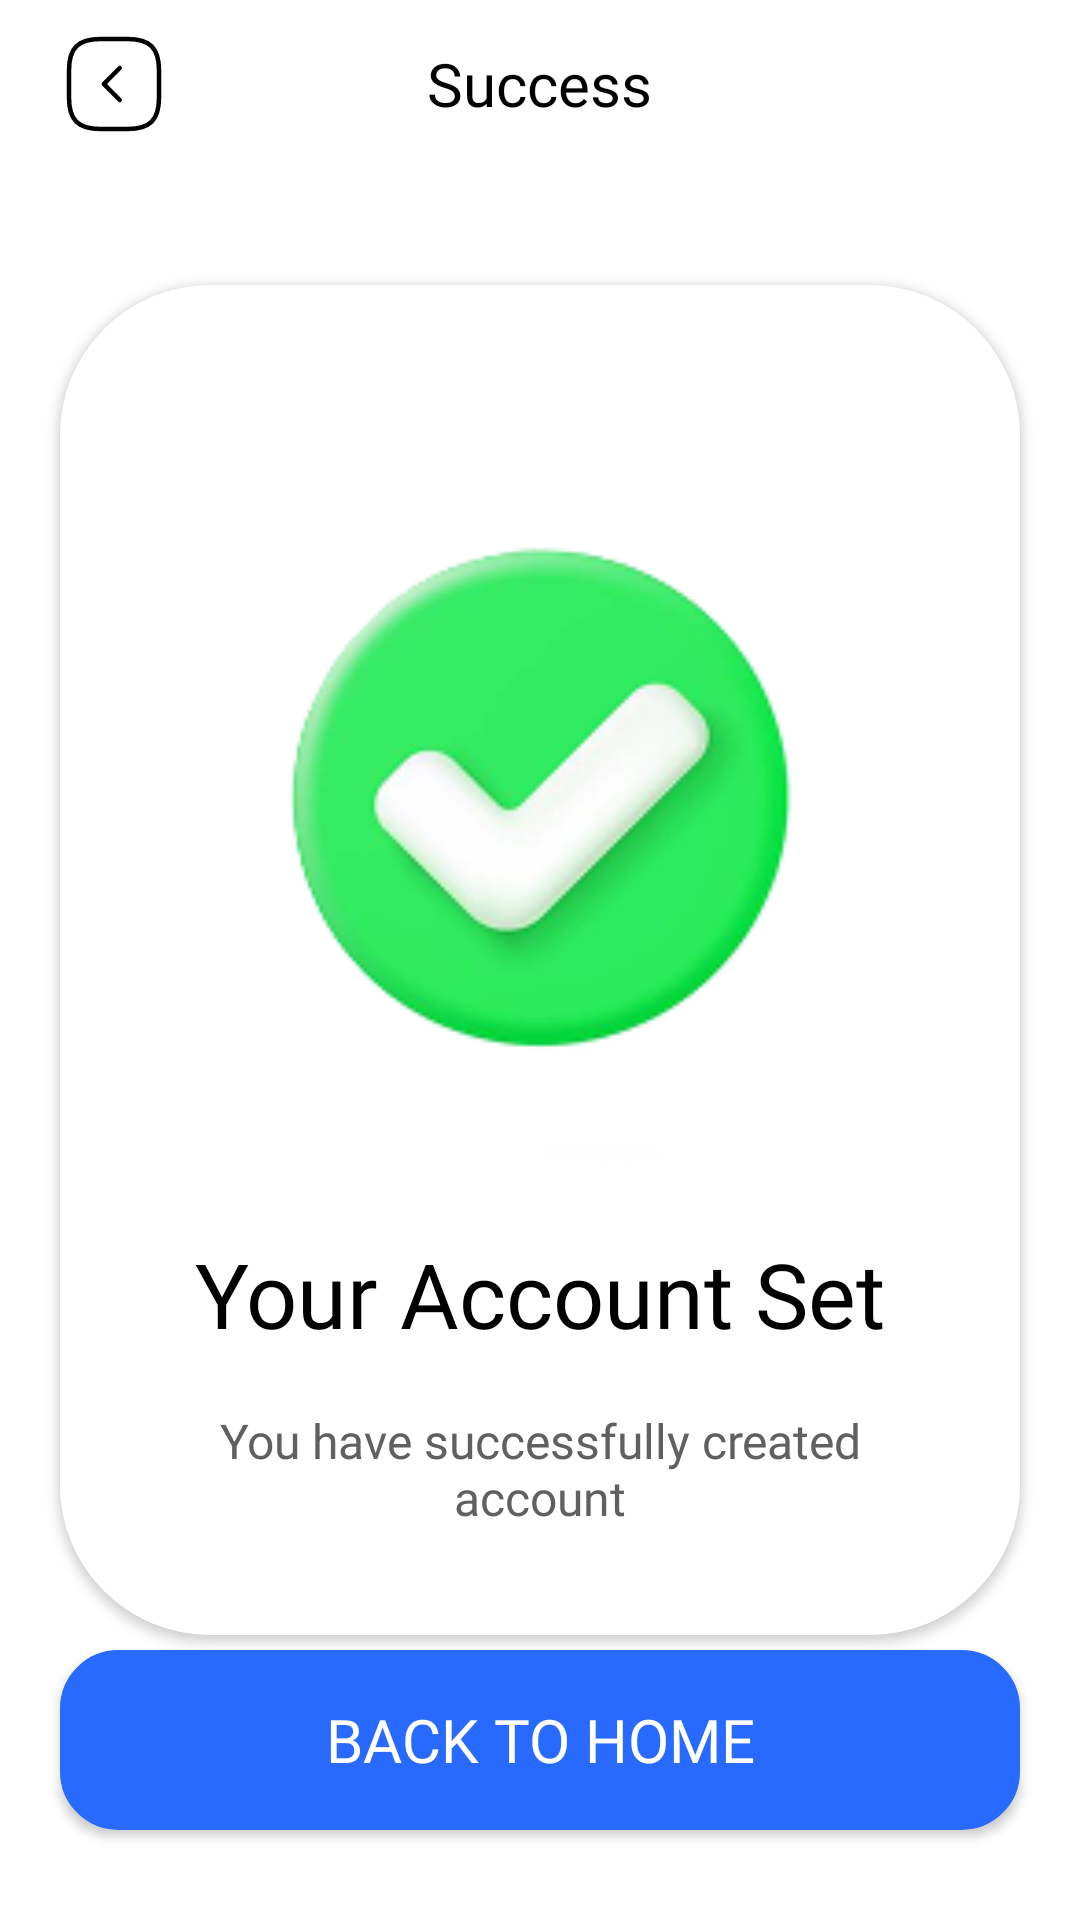

Screen size 1080w x 1920h. Icon name, then its center in pixels as [x,y]:
left arrow: [114,84]
